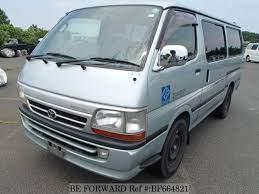van: (15, 2, 249, 177)
